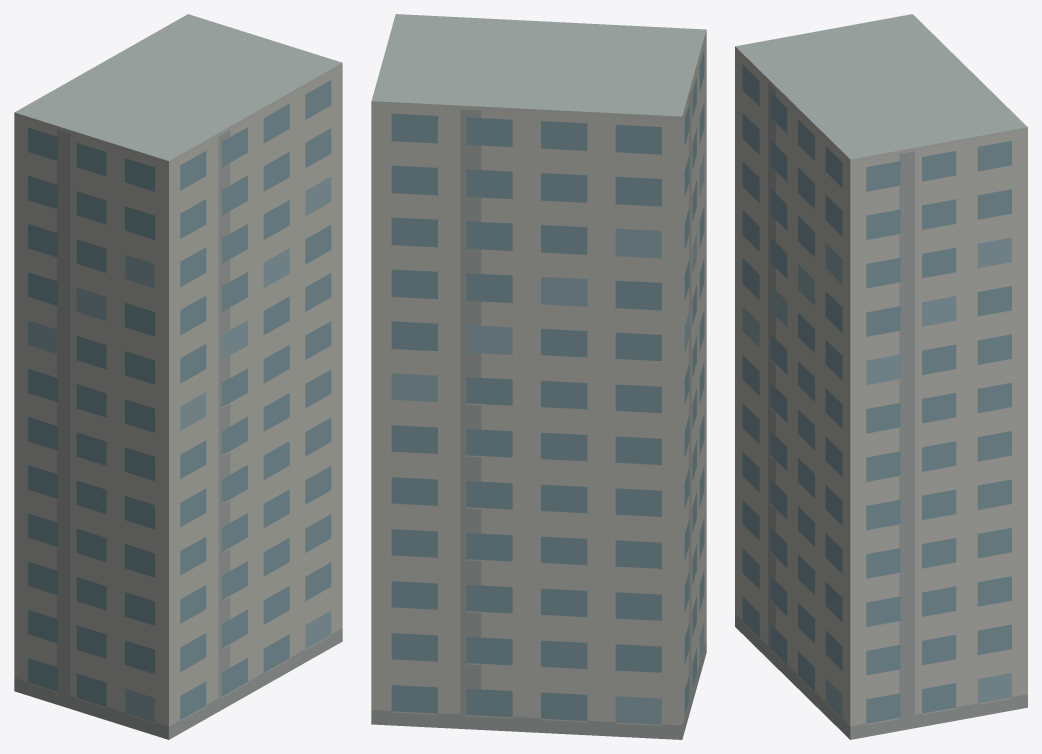
File: residential-ef7f13b7-e7c3-4bf3-b788-9e7041230cd3.glb
3 views of the same model, side by side, from view 1: azimuth 30°, elevation 25°; view 2: azimuth 150°, elevation 25°; view 3: azimuth 270°, elevation 25° (orthographic). The views are drawn at different scales.
Visible parts, largest first — view 1: residential-ef7f13b7-e7c3-4bf3-b788-9e7041230cd3.tmp; view 2: residential-ef7f13b7-e7c3-4bf3-b788-9e7041230cd3.tmp; view 3: residential-ef7f13b7-e7c3-4bf3-b788-9e7041230cd3.tmp.
Boxes of the visible parts, x1,y1,x2,y2 form: residential-ef7f13b7-e7c3-4bf3-b788-9e7041230cd3.tmp: (14,14,342,739); residential-ef7f13b7-e7c3-4bf3-b788-9e7041230cd3.tmp: (371,14,706,739); residential-ef7f13b7-e7c3-4bf3-b788-9e7041230cd3.tmp: (735,14,1027,739).
Bounding box in the file's own units: 20.96 × 39 × 17.83.
